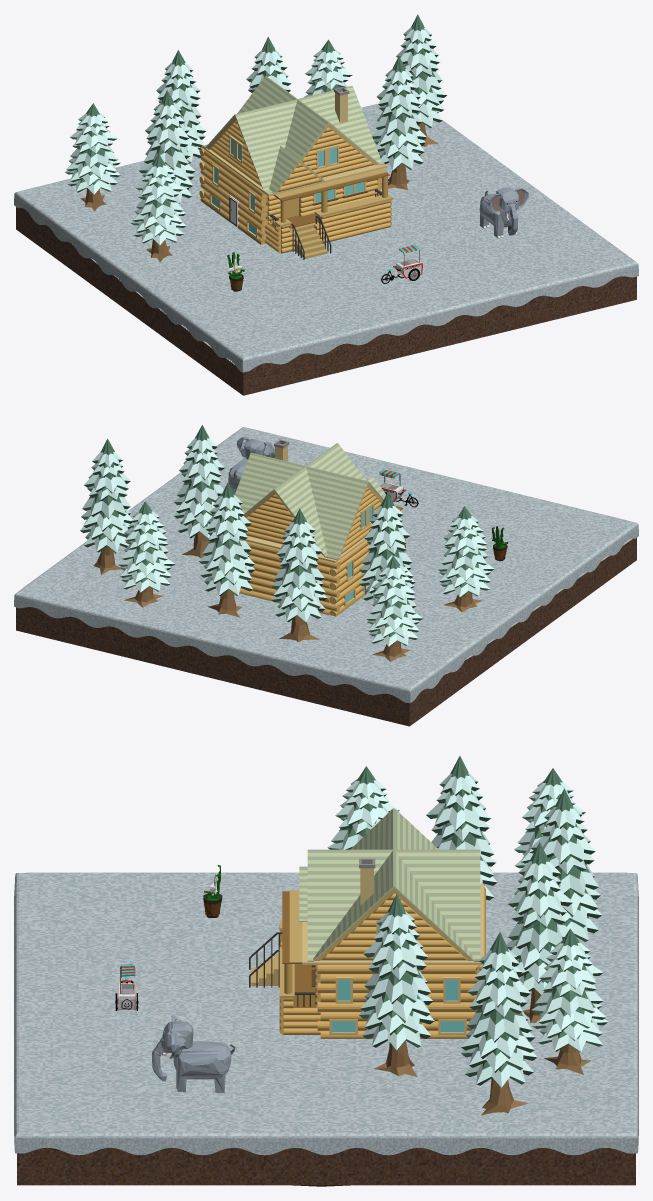
The picture shows the model from 3 angles, top to bottom: view 1: azimuth 30°, elevation 25°; view 2: azimuth 150°, elevation 25°; view 3: azimuth 270°, elevation 25°; orthographic projection. The views are drawn at different scales.
Visible parts, largest first — view 1: Cube.003, Cube.1516, ANIMAL_ELEFANTE, VEHICLES_SNOWBAL_BIKE; view 2: Cube.003, Cube.1516, ANIMAL_ELEFANTE, VEHICLES_SNOWBAL_BIKE; view 3: Cube.003, Cube.1516, ANIMAL_ELEFANTE, VEHICLES_SNOWBAL_BIKE, OBJRANDOM_MONJA BLANCA.
Part boxes in pixels (bbox=[...]): Cube.003: bbox=[14, 14, 638, 395]; Cube.1516: bbox=[199, 76, 393, 259]; ANIMAL_ELEFANTE: bbox=[479, 187, 528, 238]; VEHICLES_SNOWBAL_BIKE: bbox=[381, 244, 422, 283]; Cube.003: bbox=[14, 425, 638, 726]; Cube.1516: bbox=[234, 439, 406, 616]; ANIMAL_ELEFANTE: bbox=[228, 436, 274, 494]; VEHICLES_SNOWBAL_BIKE: bbox=[379, 469, 418, 507]; Cube.003: bbox=[14, 756, 638, 1185]; Cube.1516: bbox=[249, 808, 485, 1038]; ANIMAL_ELEFANTE: bbox=[152, 1015, 235, 1092]; VEHICLES_SNOWBAL_BIKE: bbox=[115, 964, 138, 1010]; OBJRANDOM_MONJA BLANCA: bbox=[203, 865, 222, 917].
Bounding box in the file's own units: 4040 × 1758 × 4040.
39 materials, 4 textured.
